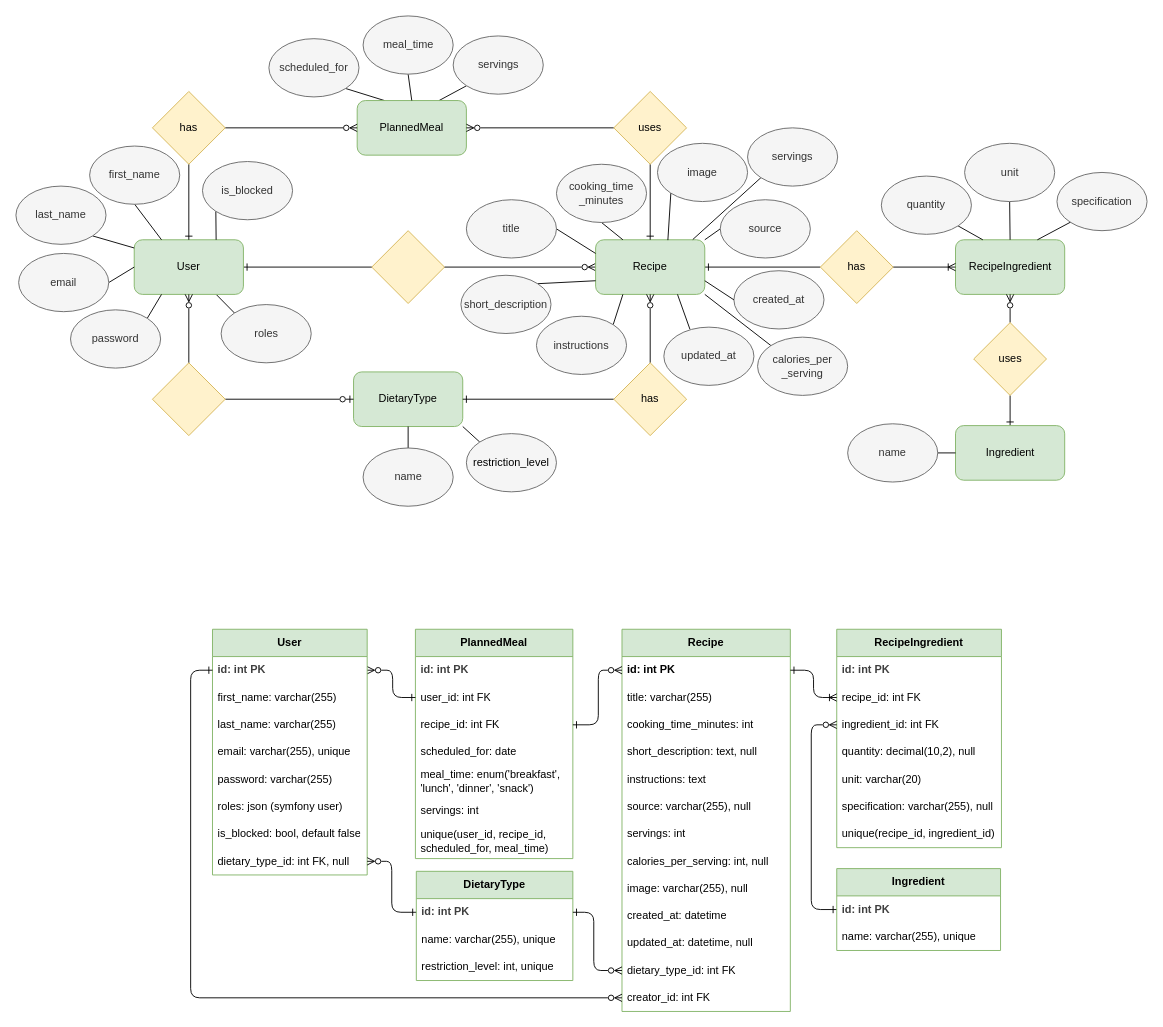
This 1163x1027 diagram has some shape labels left out. Here are the shapes that lost their labels. From the top down, the centre of each, then its label:
point (408, 266): creates
point (188, 399): prefers
